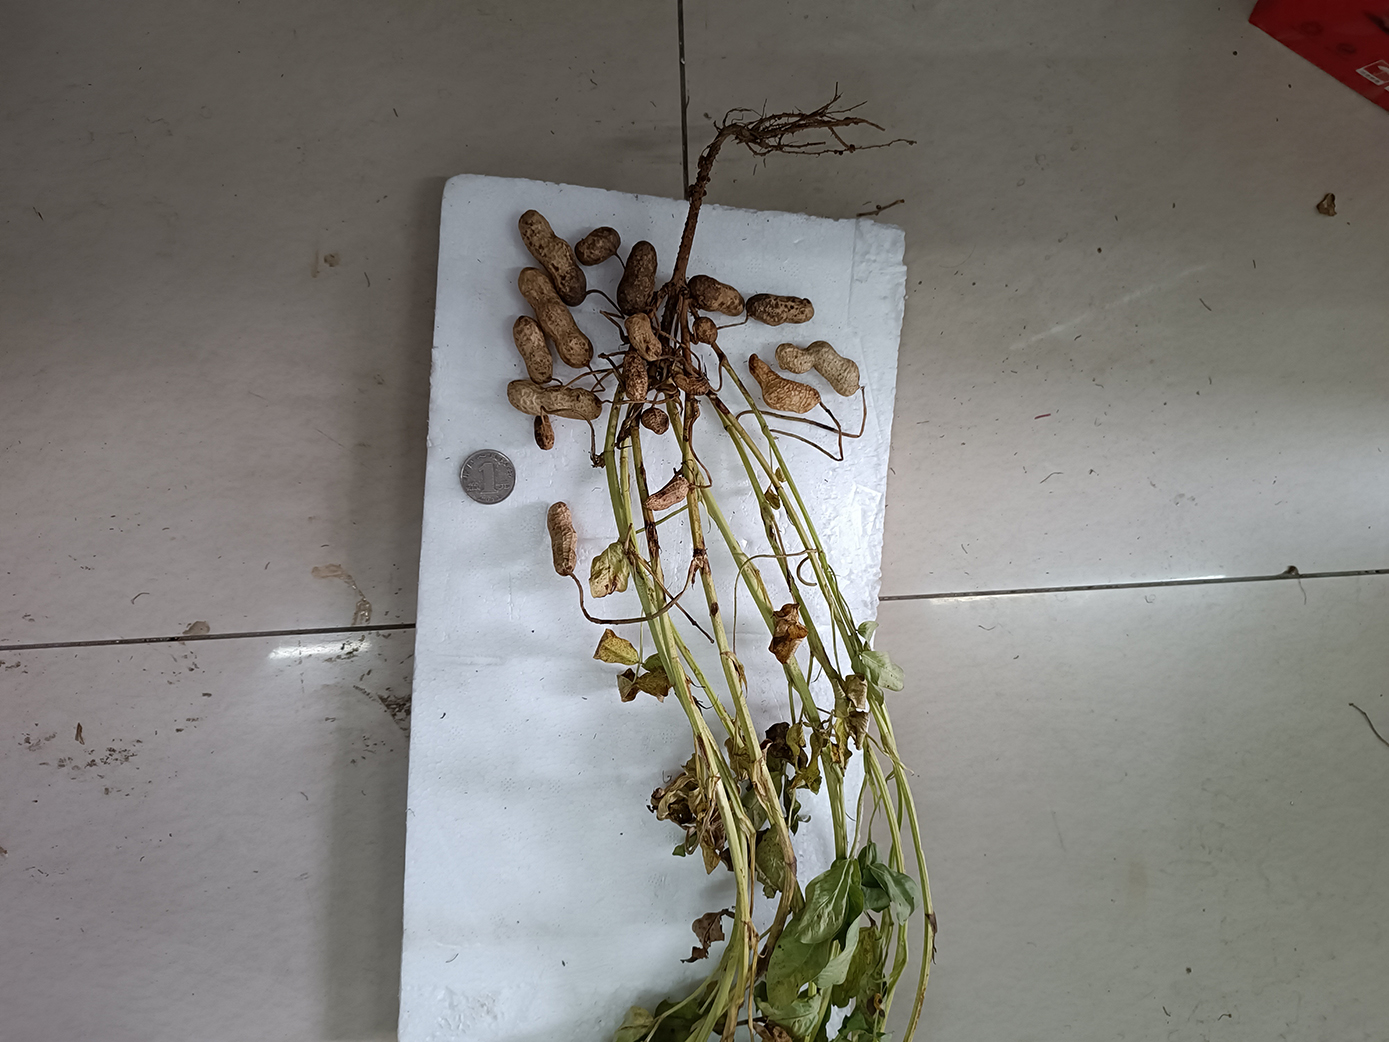h: (518, 268, 594, 368), (519, 208, 587, 306), (777, 343, 859, 400), (746, 354, 822, 413), (508, 380, 602, 422), (513, 317, 553, 387), (687, 274, 743, 316), (744, 294, 815, 327), (548, 501, 580, 575), (625, 313, 663, 361), (576, 225, 621, 266), (670, 356, 708, 398), (643, 478, 688, 511), (621, 358, 647, 402), (532, 413, 555, 451), (692, 319, 716, 347)
l: (616, 240, 660, 319), (639, 409, 669, 435)
